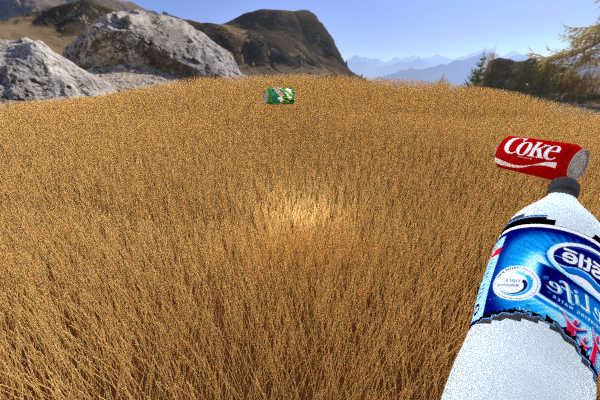Plastic Bottle: (431, 176, 600, 400), (494, 135, 589, 181), (263, 87, 295, 104)
